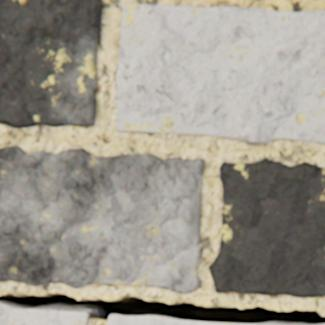brick: (0, 146, 204, 294), (117, 5, 324, 145), (209, 160, 324, 297), (0, 0, 102, 128), (0, 302, 89, 324), (108, 314, 281, 324)
crack: (0, 293, 324, 324)
